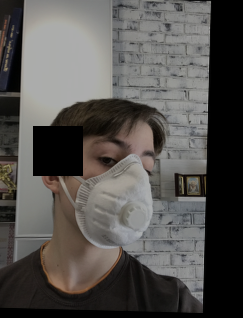with_mask: (65, 133, 156, 250)
